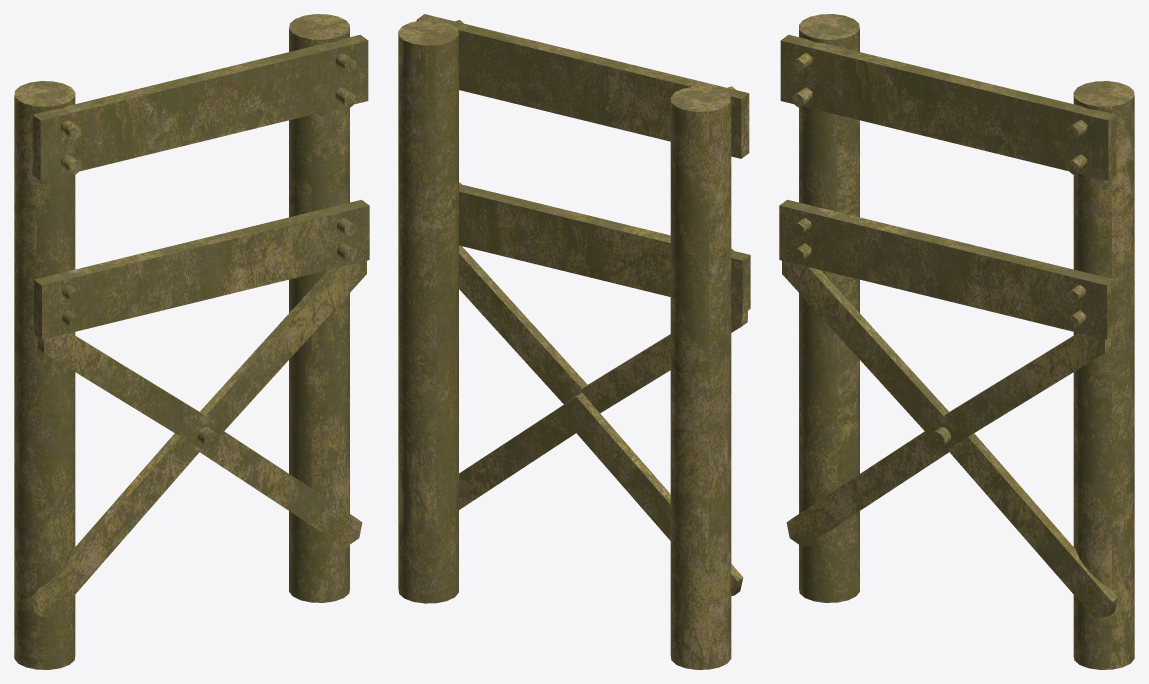
File: SM_support_bridge.fbx
3 views of the same model, side by side, from view 1: azimuth 30°, elevation 25°; view 2: azimuth 150°, elevation 25°; view 3: azimuth 330°, elevation 25° (orthographic).
Visible parts, largest first — view 1: support_bridge; view 2: support_bridge; view 3: support_bridge.
Part boxes in pixels (x1=…): support_bridge: x1=14, y1=14, x2=369, y2=669; support_bridge: x1=398, y1=14, x2=750, y2=669; support_bridge: x1=779, y1=14, x2=1134, y2=669.
Size of the model in its own units: 113 by 186 by 27.79.
